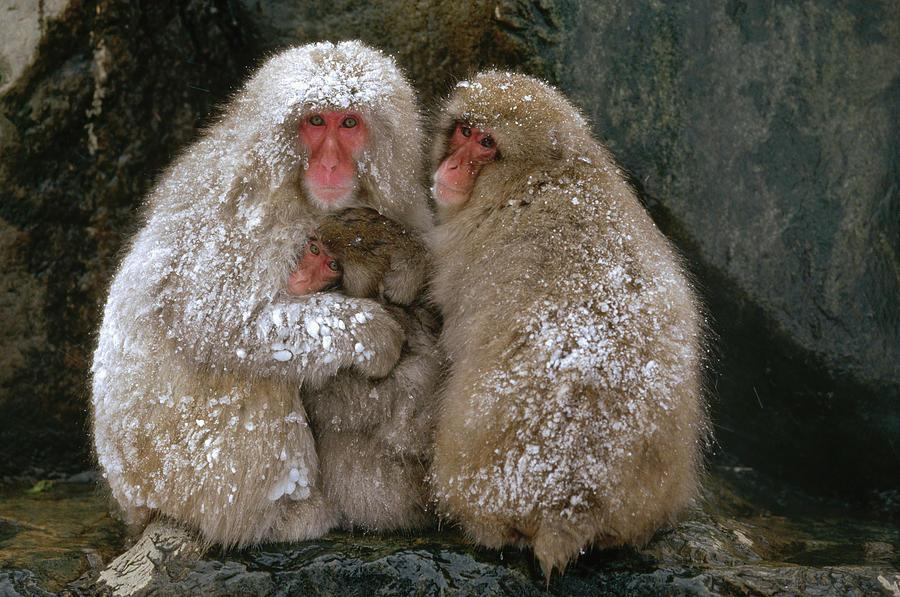monkey: (422, 71, 712, 578)
